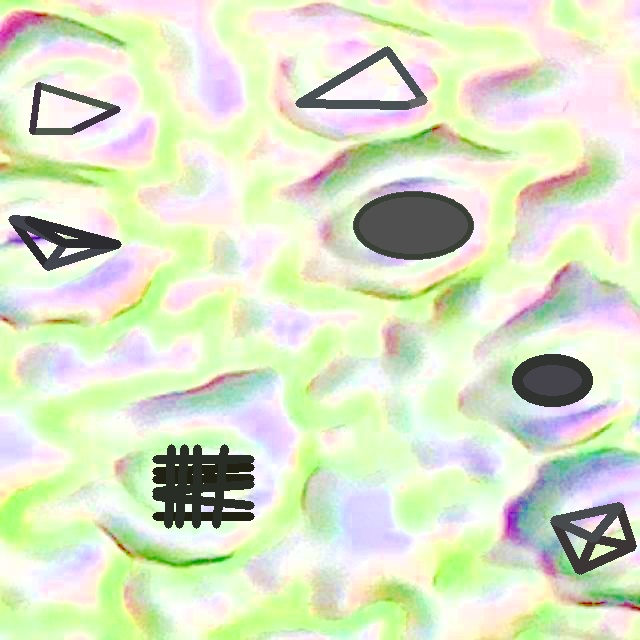close: (511, 354, 592, 407)
open: (152, 445, 254, 528), (295, 46, 427, 109), (353, 191, 473, 259), (550, 502, 636, 574), (8, 216, 121, 270), (29, 82, 120, 134)
